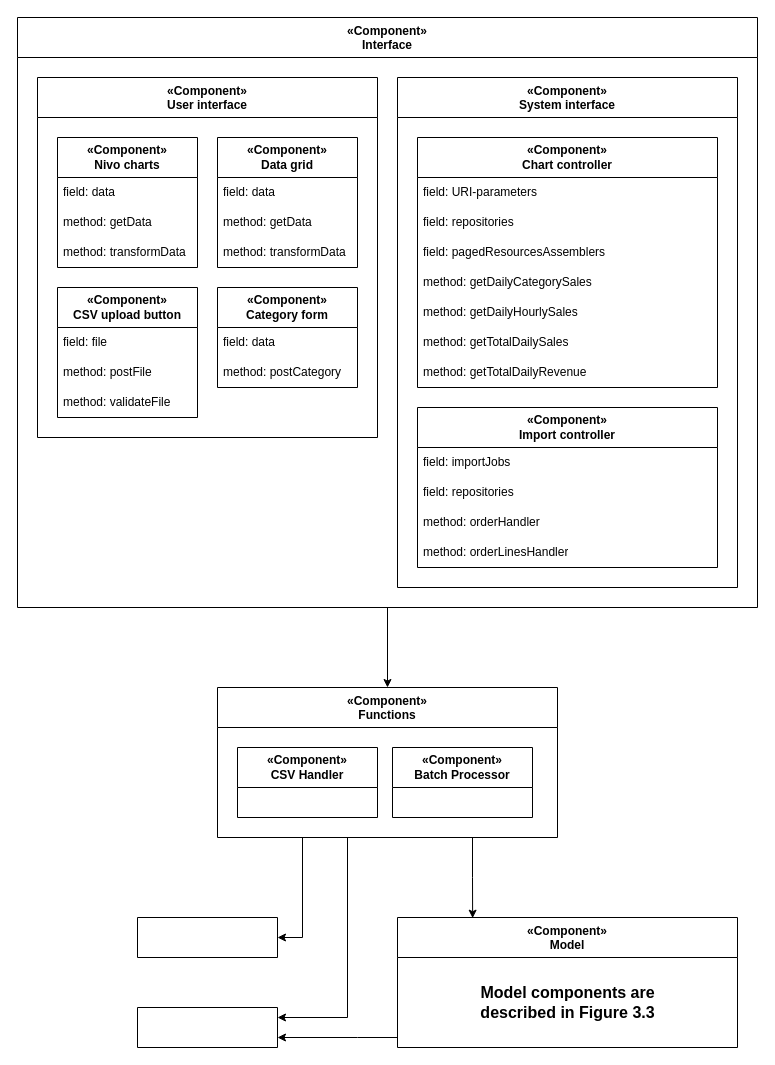
This 775x1065 diagram has some shape labels left out. Each missing label, with the centre of its shape:
"«Component» Database" goes at [207,1027].
"«Component» Springboot libraries" goes at [207,937].
